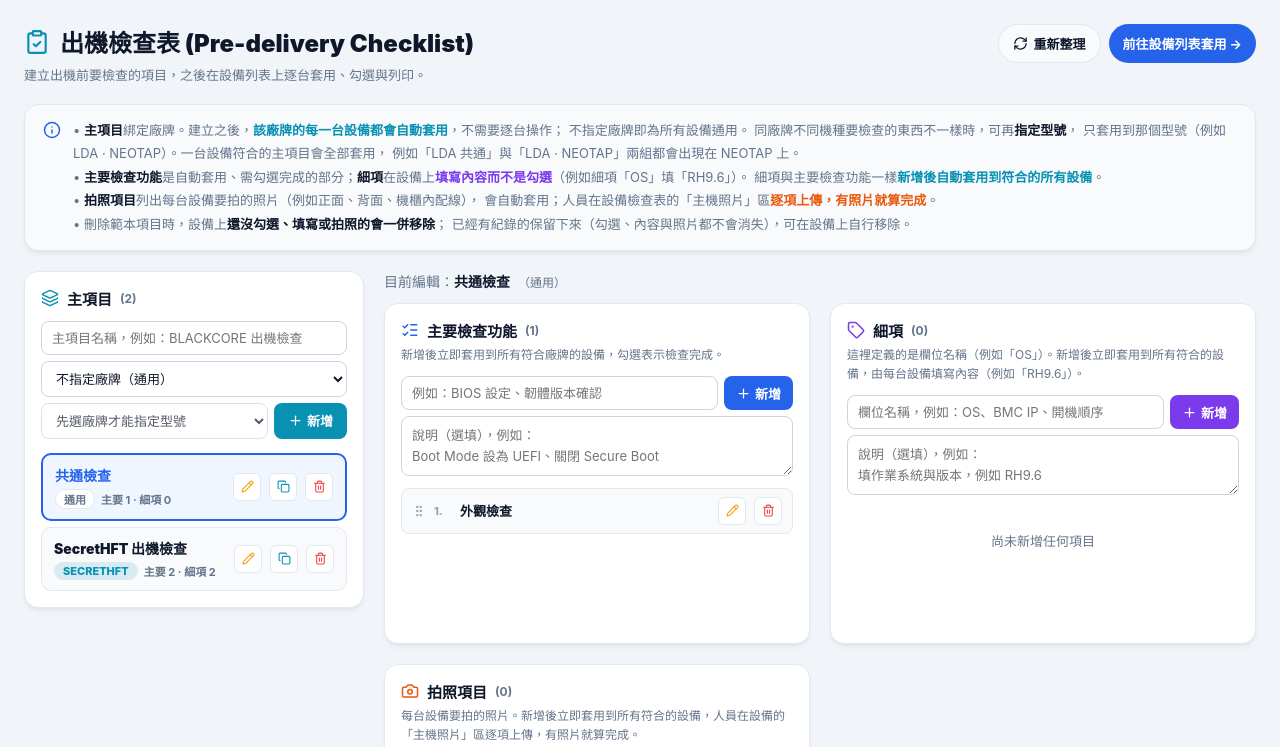
Test: 出機檢查表：範本維護頁 › 細項與主要檢查功能外觀一致 › 細項前面沒有勾選框
Click the text "SecretHFT 出機檢查" at (121, 548), box left=54, top=540, right=187, bottom=557
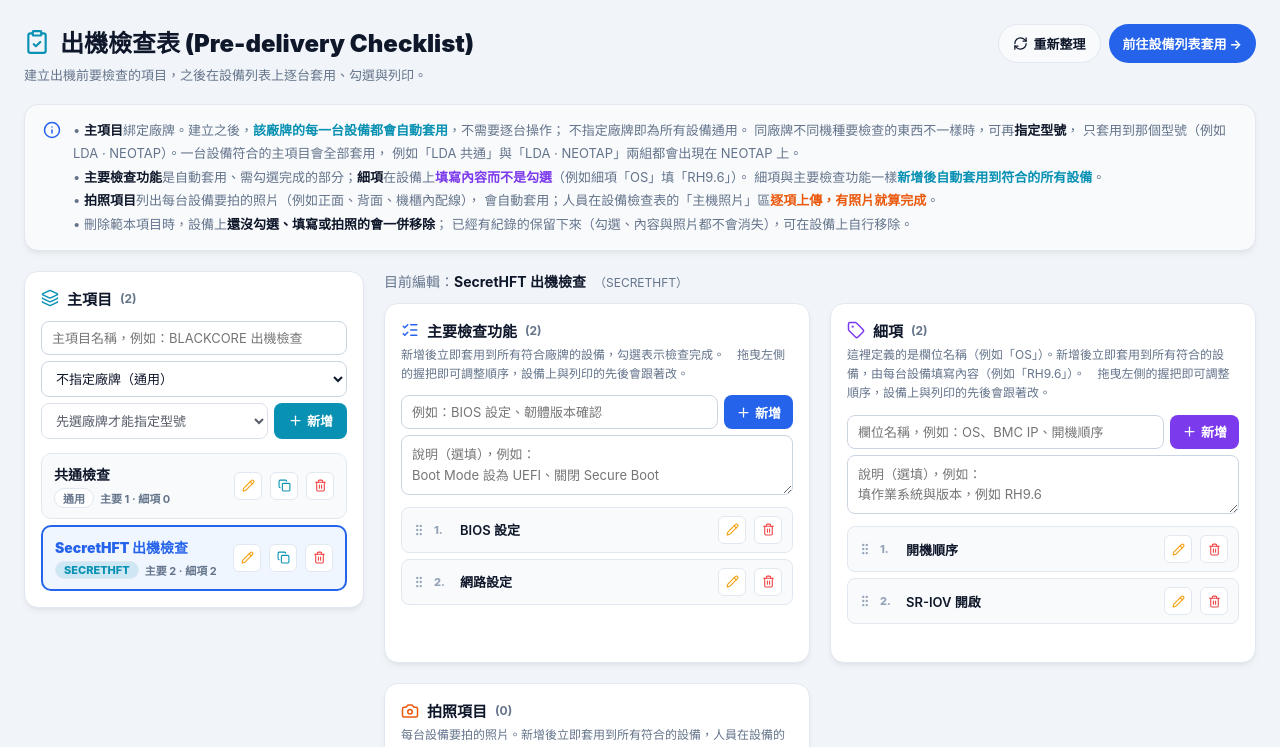
Now the text "開機順序" is shown, box left=906, top=542, right=958, bottom=558
